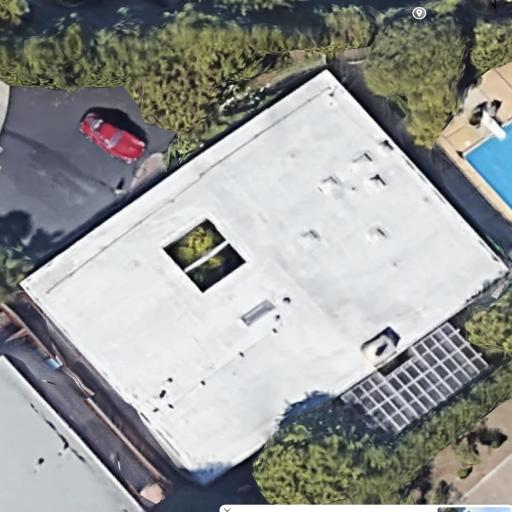Flat Roof: (18, 68, 510, 491)
